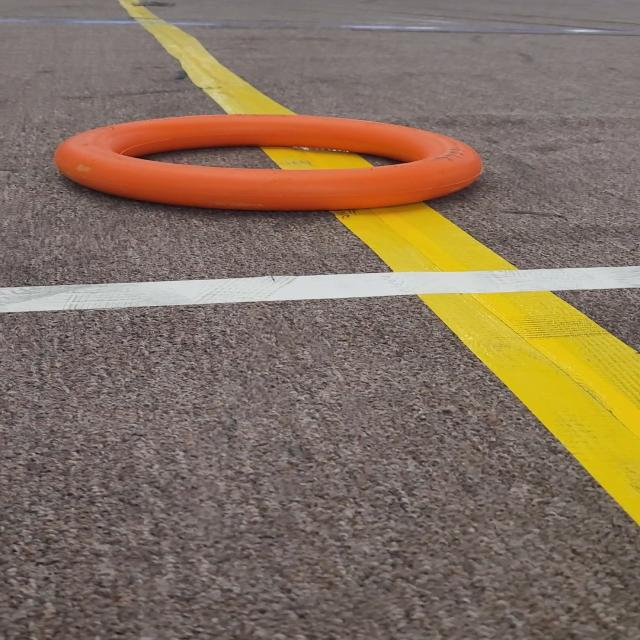note: (46, 104, 512, 232)
